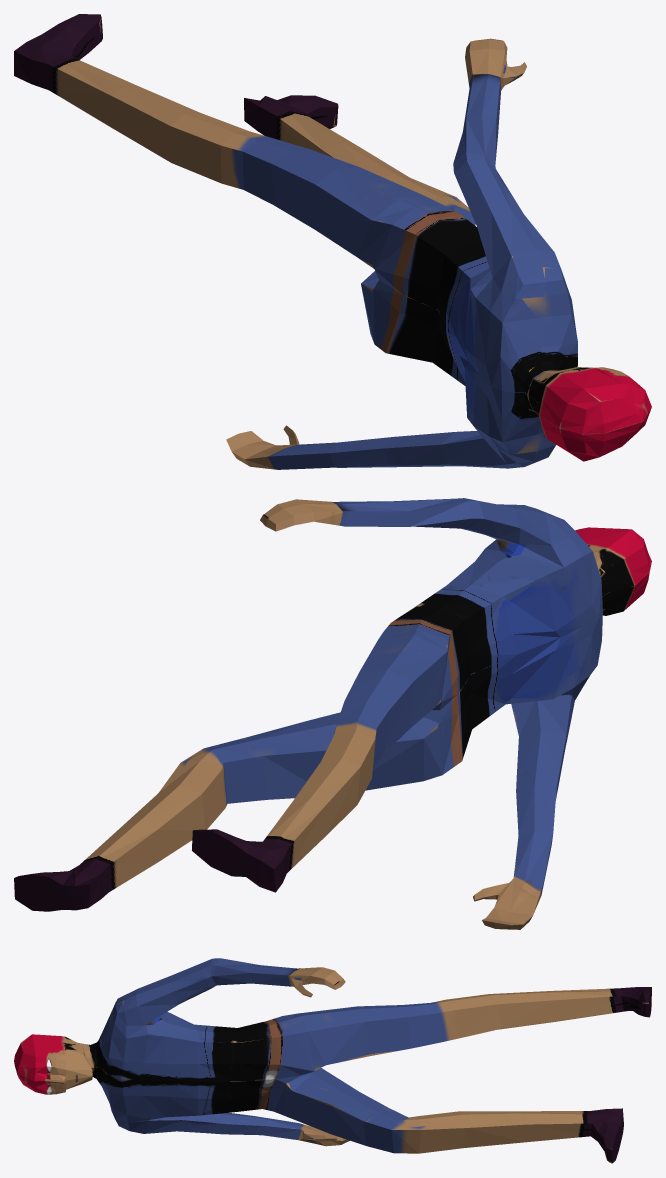
Rendered from mirrorman_000022.obj.
3 views of the same model, one above another, from view 1: azimuth 30°, elevation 25°; view 2: azimuth 150°, elevation 25°; view 3: azimuth 270°, elevation 25° (orthographic). The views are drawn at different scales.
Parts seen in each view (by area): view 1: mirrorman_Cube.001_Material.001; view 2: mirrorman_Cube.001_Material.001; view 3: mirrorman_Cube.001_Material.001.
Part boxes in pixels (x1,y1,x2,y2): mirrorman_Cube.001_Material.001: [14, 14, 651, 469]; mirrorman_Cube.001_Material.001: [14, 498, 651, 929]; mirrorman_Cube.001_Material.001: [14, 958, 651, 1163].
Bounding box in the file's own units: 0.7022 × 0.7854 × 1.87.
1 material, 1 textured.
